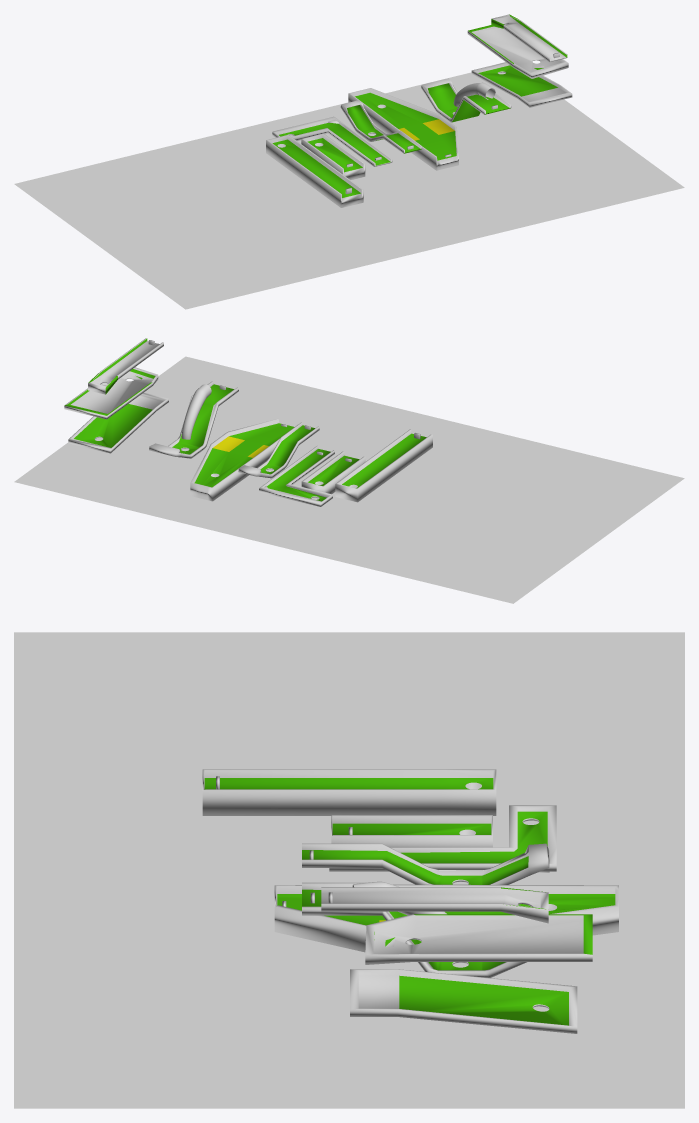
The model's file is holes1.fbx.
3 views of the same model, one above another, from view 1: azimuth 30°, elevation 25°; view 2: azimuth 150°, elevation 25°; view 3: azimuth 270°, elevation 25° (orthographic). The views are drawn at different scales.
Parts seen in each view (by area): view 1: Plane_007, hole2_001, hole4_002, Practice, hole5_, hole2, hole3, hole1, BezierCurve; view 2: Plane_007, hole2_001, hole4_002, Practice, hole2, hole5_, hole3, hole1, BezierCurve; view 3: Plane_007, hole2_001, Practice, hole4_002, hole3, hole1, hole2, hole5_.
Part boxes in pixels (x1,y1,x2,y2): Plane_007: (14,72,684,309); hole2_001: (467,14,572,107); hole4_002: (348,88,458,170); Practice: (266,134,363,207); hole5_: (421,78,511,122); hole2: (272,116,392,166); hole3: (340,100,421,153); hole1: (301,133,365,179); BezierCurve: (453,82,495,106); Plane_007: (14,356,684,603); hole2_001: (64,338,168,453); hole4_002: (190,419,294,501); Practice: (335,429,432,502); hole2: (259,446,334,506); hole5_: (149,381,238,458); hole3: (238,422,319,478); hole1: (301,451,365,498); BezierCurve: (181,384,211,439); Plane_007: (14,632,684,1108); hole2_001: (321,887,592,1033); Practice: (202,769,496,815); hole4_002: (274,884,618,952); hole3: (302,843,549,884); hole1: (331,815,492,847); hole2: (329,805,556,871); hole5_: (302,882,526,977).
Bounding box in the file's own units: 55.56 × 9.17 × 33.07.
